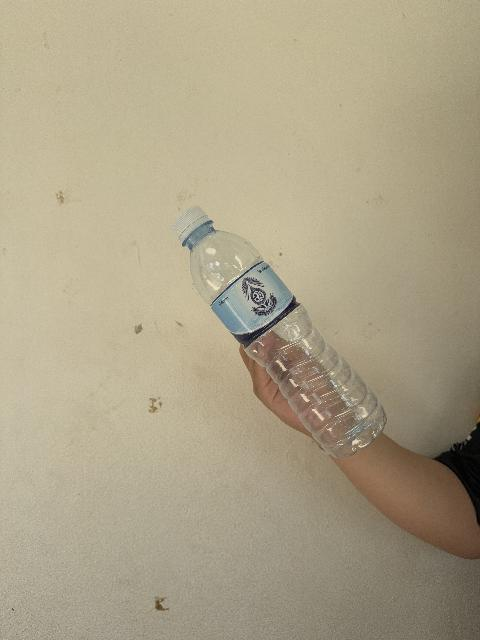bottle: (172, 206, 386, 457)
